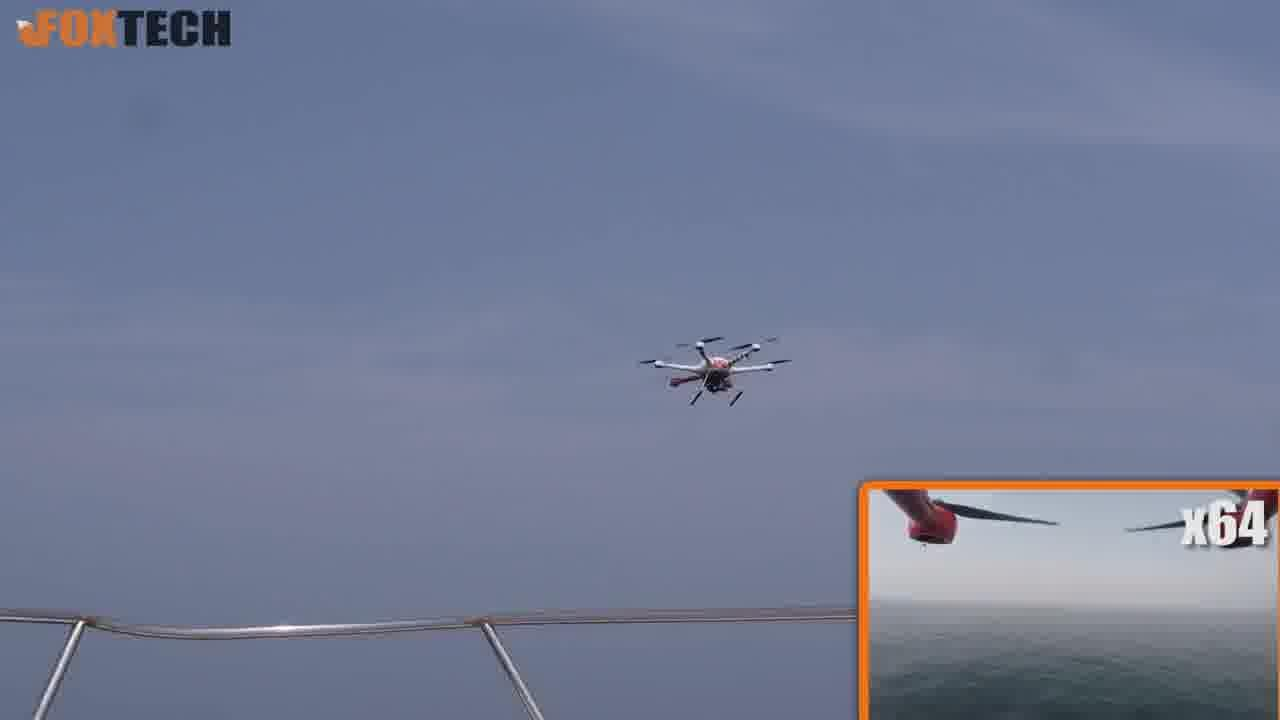drone: (634, 316, 791, 413)
